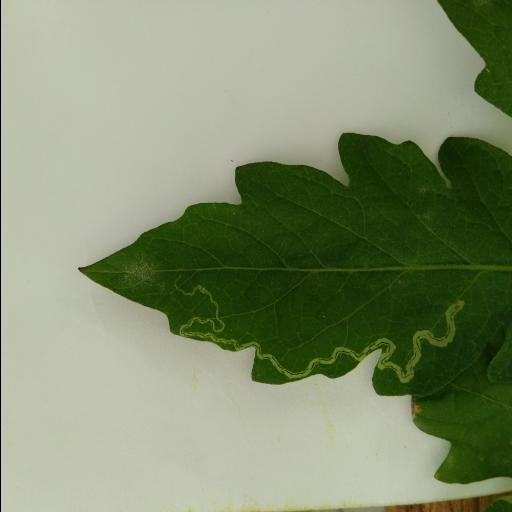Leaf Miner: (74, 130, 512, 394)
